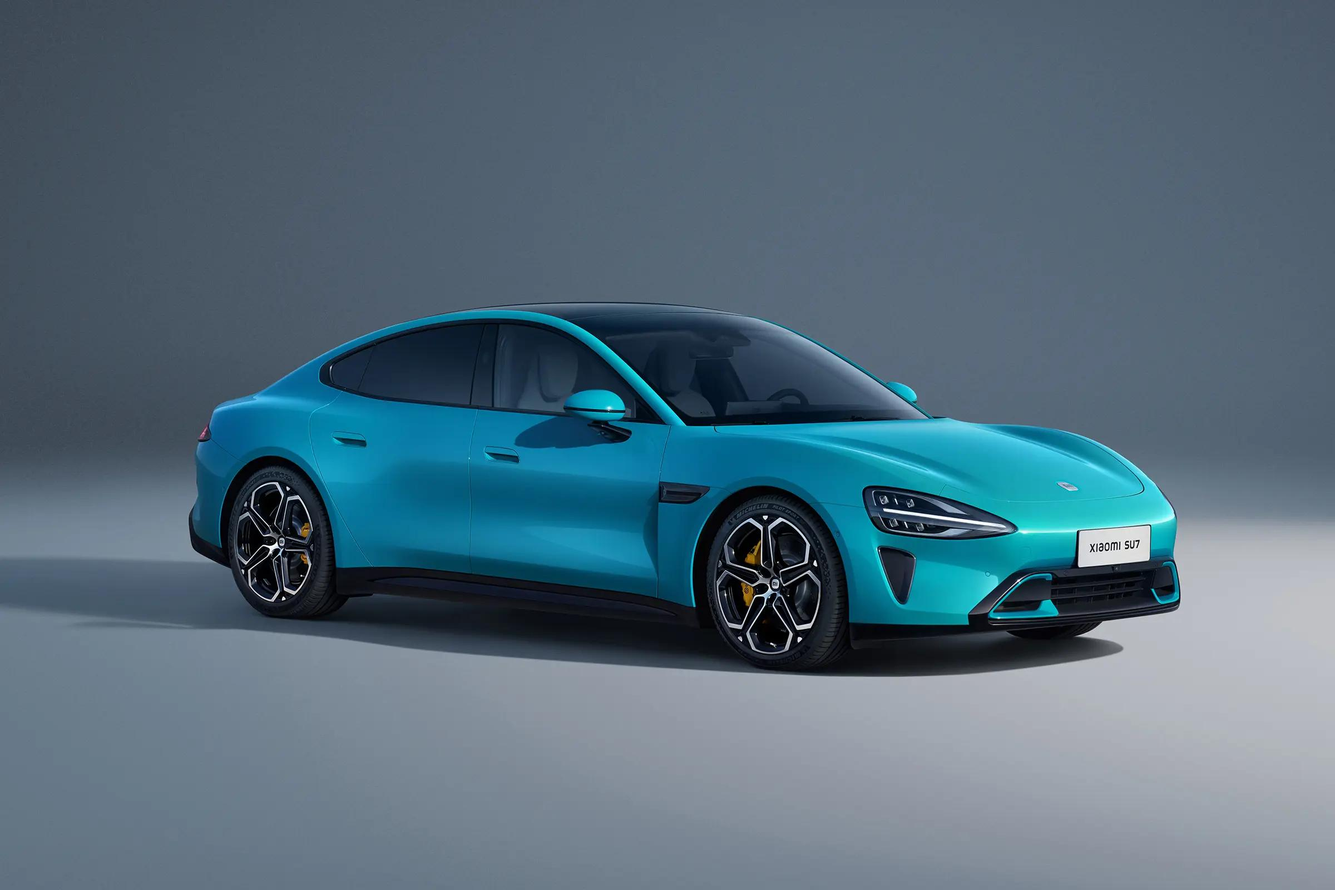XIAOMI: (1057, 481, 1079, 491)
